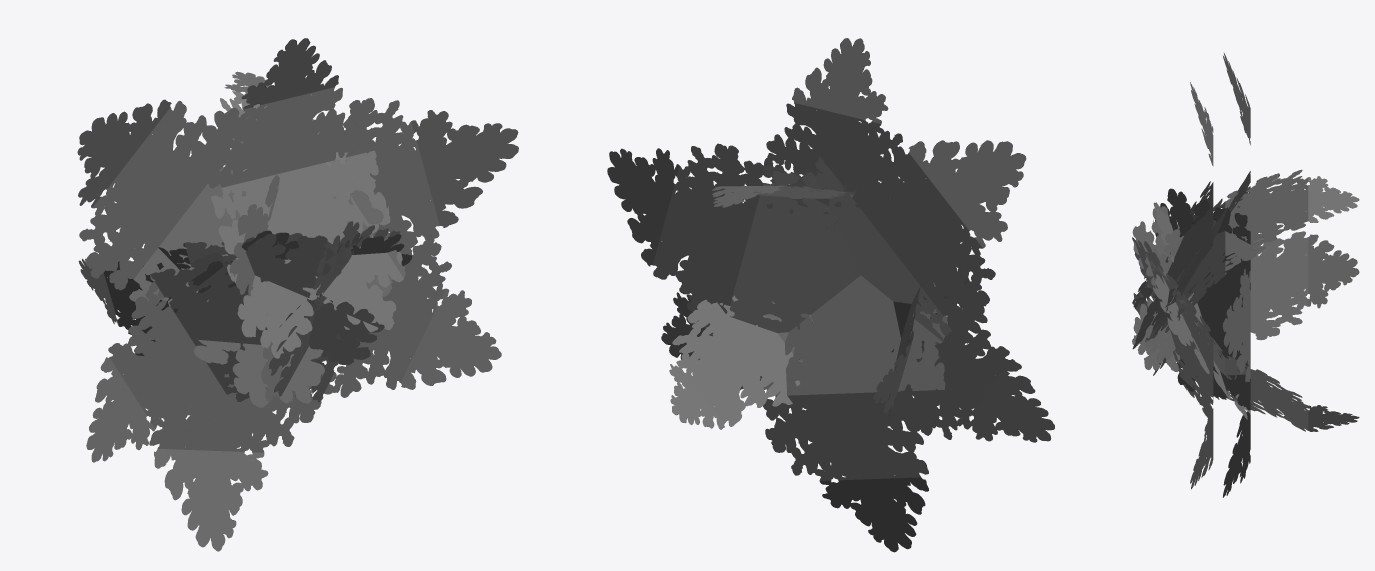
File: ormbunke.fbx
3 renders of one model, left to right at view 1: azimuth 30°, elevation 25°; view 2: azimuth 150°, elevation 25°; view 3: azimuth 270°, elevation 25°, orthographic. The views are drawn at different scales.
Parts seen in each view (by area): view 1: Plane.005; view 2: Plane.005; view 3: Plane.005.
Boxes of the visible parts, bbox=[...] form: Plane.005: bbox=[77, 38, 518, 551]; Plane.005: bbox=[607, 38, 1054, 552]; Plane.005: bbox=[1132, 53, 1359, 497].
Size of the model in its own units: 452 by 455 by 199.
1 material, 1 textured.
